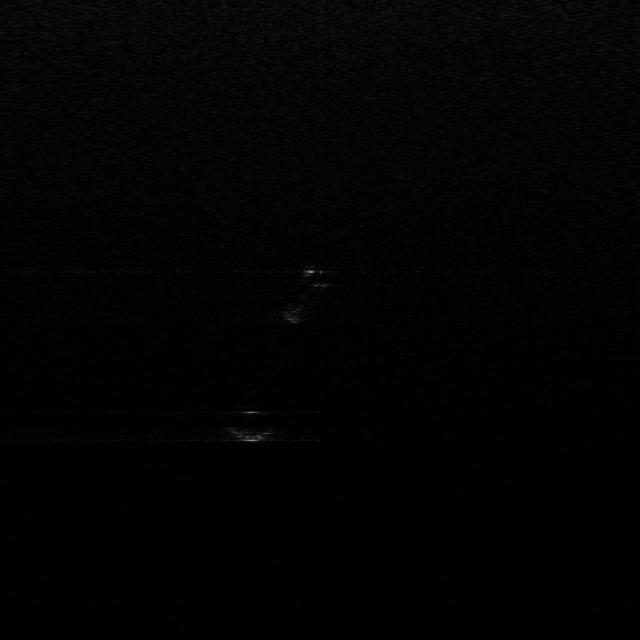ball: (222, 407, 278, 442)
tyre: (279, 260, 327, 326)
